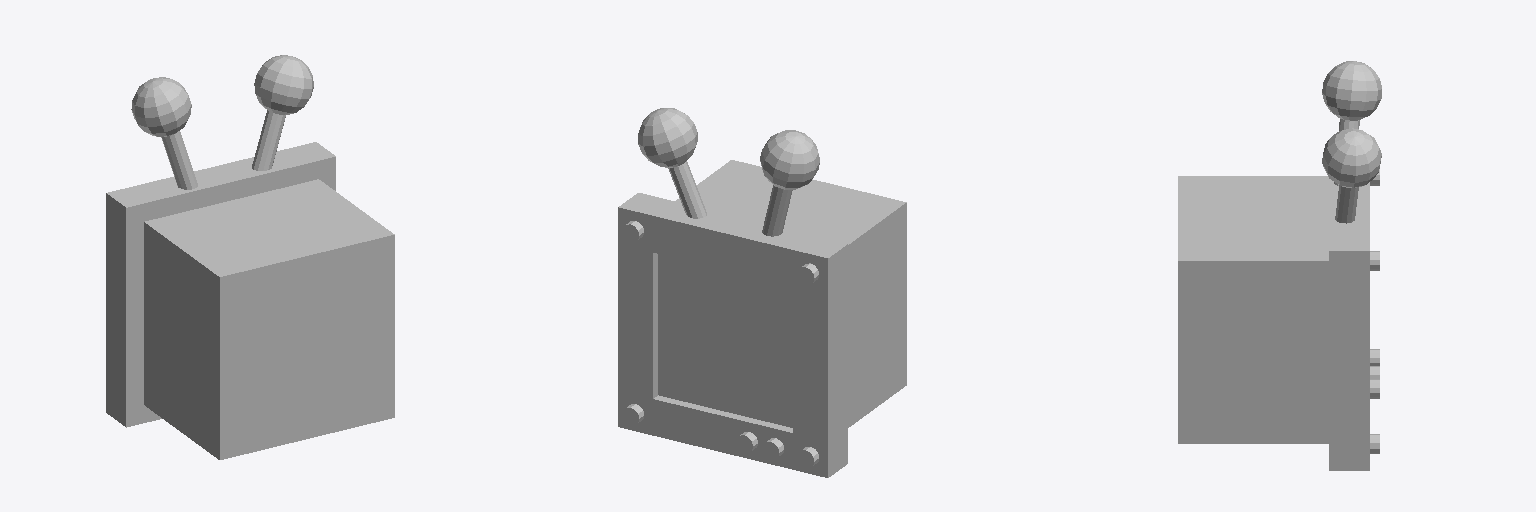
The model's file is Computer.obj.
The picture shows the model from 3 angles: view 1: azimuth 30°, elevation 25°; view 2: azimuth 150°, elevation 25°; view 3: azimuth 270°, elevation 25°; orthographic projection.
Parts seen in each view (by area): view 1: group[number redacted]; view 2: group[number redacted], group[number redacted]; view 3: group[number redacted].
Boxes of the visible parts, <box> form: group[number redacted]: <box>106,55,394,459</box>; group[number redacted]: <box>618,108,906,477</box>; group[number redacted]: <box>658,254,792,427</box>; group[number redacted]: <box>1178,61,1381,470</box>.
Size of the model in its own units: 0.24 by 0.358 by 0.2028.